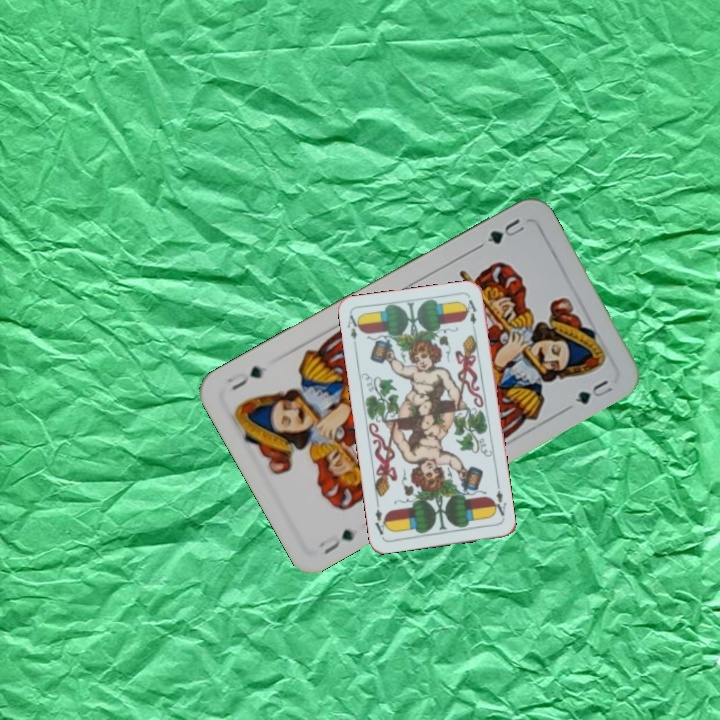EA: (488, 481, 509, 521), (343, 311, 363, 342)
GU: (483, 214, 529, 247), (314, 525, 358, 557)
